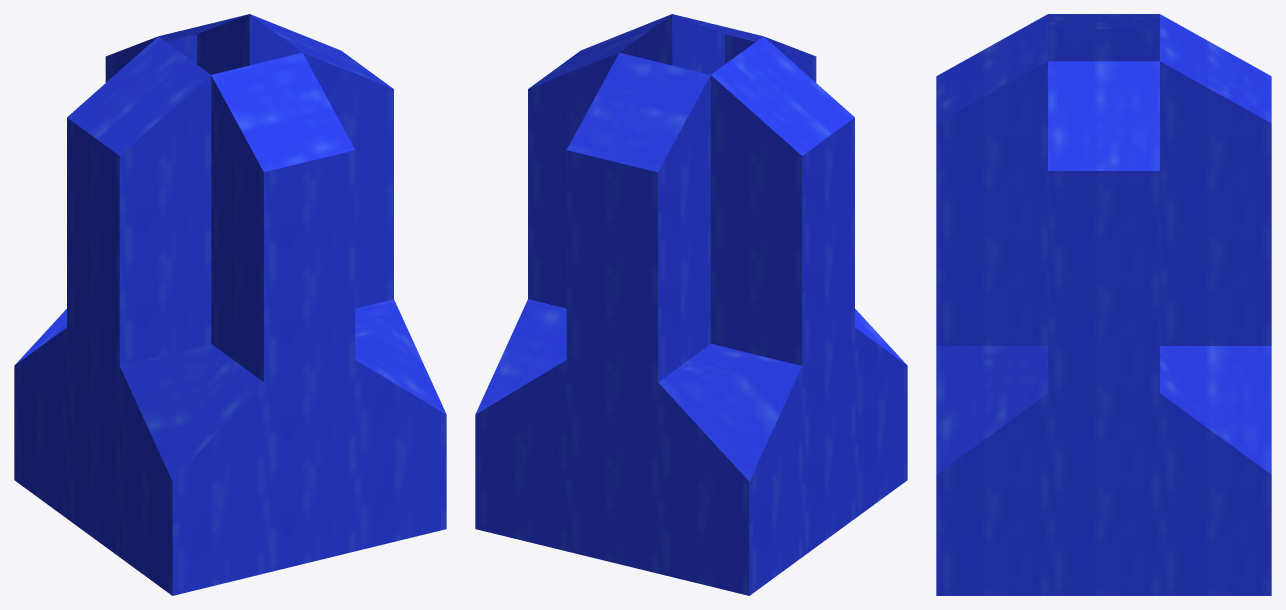
Rendered from Water_001.fbx.
3 views of the same model, side by side, from view 1: azimuth 30°, elevation 25°; view 2: azimuth 150°, elevation 25°; view 3: azimuth 270°, elevation 25° (orthographic). The views are drawn at different scales.
Parts seen in each view (by area): view 1: Water.001; view 2: Water.001; view 3: Water.001.
Boxes of the visible parts, <box> form: Water.001: <box>14,14,446,595</box>; Water.001: <box>475,14,907,595</box>; Water.001: <box>936,14,1271,595</box>.
Bounding box in the file's own units: 300 × 481 × 300.
